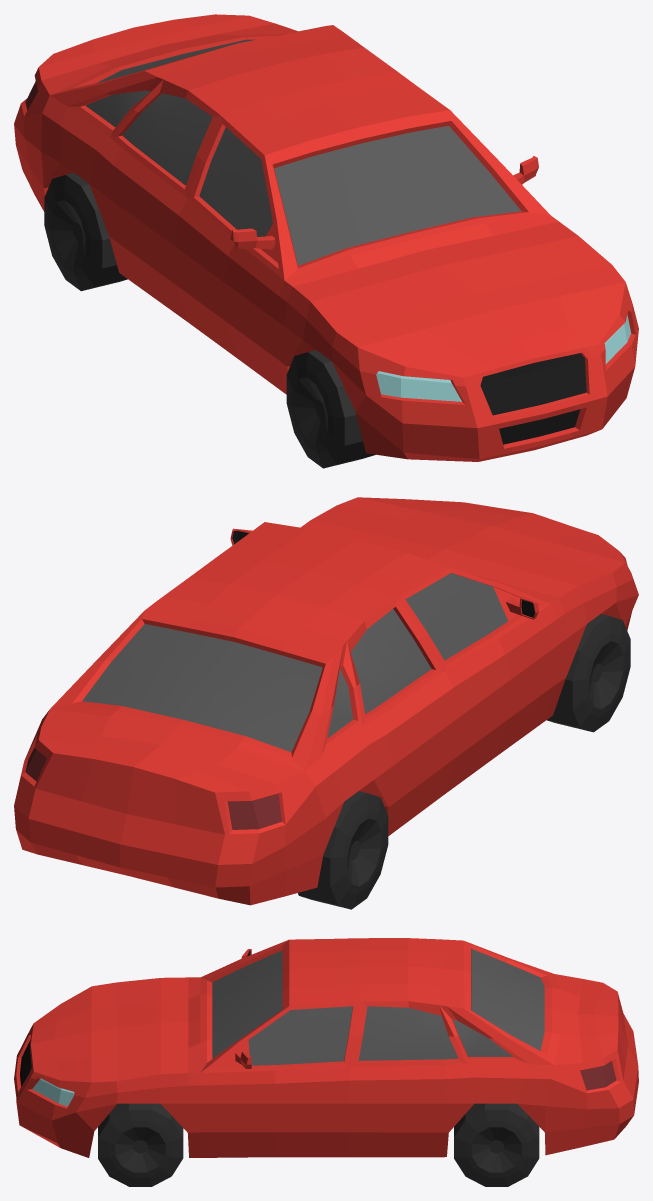
The model's file is 4red.fbx.
3 renders of one model, top to bottom at view 1: azimuth 30°, elevation 25°; view 2: azimuth 150°, elevation 25°; view 3: azimuth 270°, elevation 25°, orthographic. The views are drawn at different scales.
Parts seen in each view (by area): view 1: Cube; view 2: Cube; view 3: Cube.
Boxes of the visible parts, x1=… form: Cube: x1=14, y1=14, x2=638, y2=468; Cube: x1=14, y1=497, x2=638, y2=909; Cube: x1=14, y1=938, x2=638, y2=1186.
Size of the model in its own units: 131 by 94.78 by 317.
